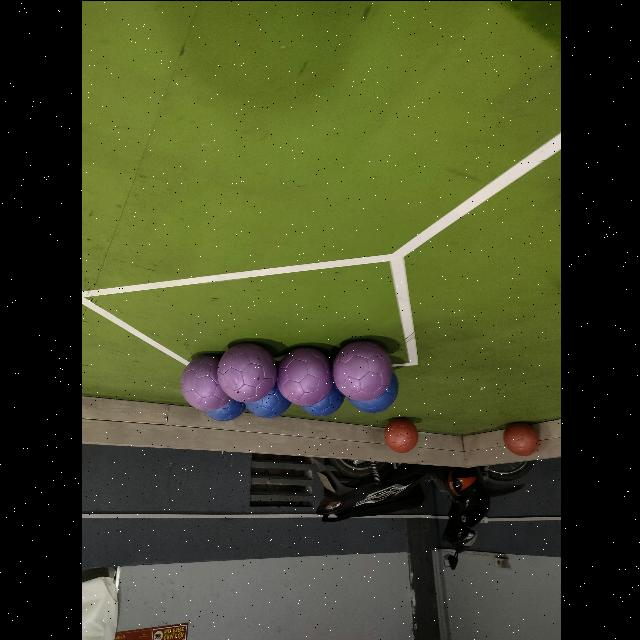B: (243, 371, 289, 417), (348, 372, 397, 412), (300, 374, 342, 416), (202, 382, 244, 421)
P: (332, 340, 392, 400), (217, 343, 276, 401), (275, 347, 331, 405), (180, 354, 232, 406)
R: (502, 422, 538, 456), (383, 418, 417, 452)
